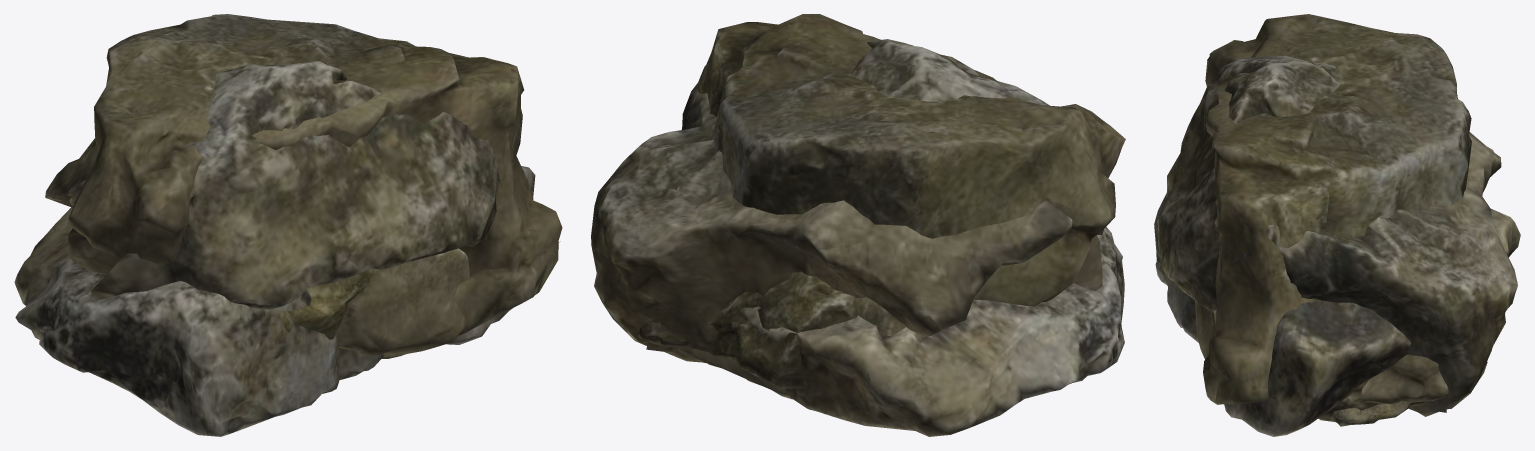
Rendered from rock_moss_set_02.glb.
The picture shows the model from 3 angles, left to right: view 1: azimuth 30°, elevation 25°; view 2: azimuth 150°, elevation 25°; view 3: azimuth 270°, elevation 25°; orthographic projection. The views are drawn at different scales.
Parts seen in each view (by area): view 1: rock_moss_set_02_rock13, rock_moss_set_02_rock11, rock_moss_set_02_rock10, rock_moss_set_02_rock07, rock_moss_set_02_rock12; view 2: rock_moss_set_02_rock13, rock_moss_set_02_rock11, rock_moss_set_02_rock10, rock_moss_set_02_rock12, rock_moss_set_02_rock07; view 3: rock_moss_set_02_rock13, rock_moss_set_02_rock11, rock_moss_set_02_rock10, rock_moss_set_02_rock07, rock_moss_set_02_rock09, rock_moss_set_02_rock12.
Part boxes in pixels (<box>): rock_moss_set_02_rock13: <box>68,14,562,358</box>; rock_moss_set_02_rock11: <box>45,61,521,309</box>; rock_moss_set_02_rock10: <box>14,166,535,436</box>; rock_moss_set_02_rock07: <box>336,248,469,356</box>; rock_moss_set_02_rock12: <box>256,268,377,376</box>; rock_moss_set_02_rock13: <box>697,14,1125,306</box>; rock_moss_set_02_rock11: <box>591,39,1102,363</box>; rock_moss_set_02_rock10: <box>740,226,1124,436</box>; rock_moss_set_02_rock12: <box>638,273,857,388</box>; rock_moss_set_02_rock07: <box>676,271,905,399</box>; rock_moss_set_02_rock13: <box>1203,14,1471,404</box>; rock_moss_set_02_rock11: <box>1157,56,1517,416</box>; rock_moss_set_02_rock10: <box>1154,193,1520,436</box>; rock_moss_set_02_rock07: <box>1195,301,1448,404</box>; rock_moss_set_02_rock09: <box>1331,401,1411,426</box>; rock_moss_set_02_rock12: <box>1318,312,1505,421</box>.
Bounding box in the file's own units: 2.2 × 1.31 × 1.55.
1 material, 1 textured.
